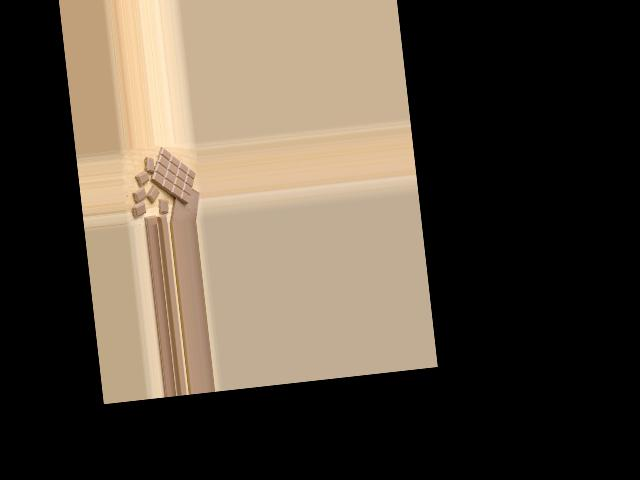chocolate: (145, 145, 198, 207)
